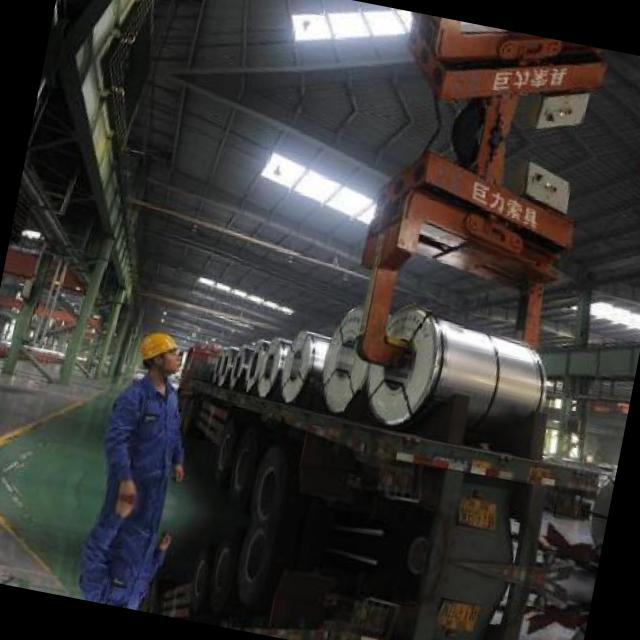helmet: (133, 320, 188, 380)
